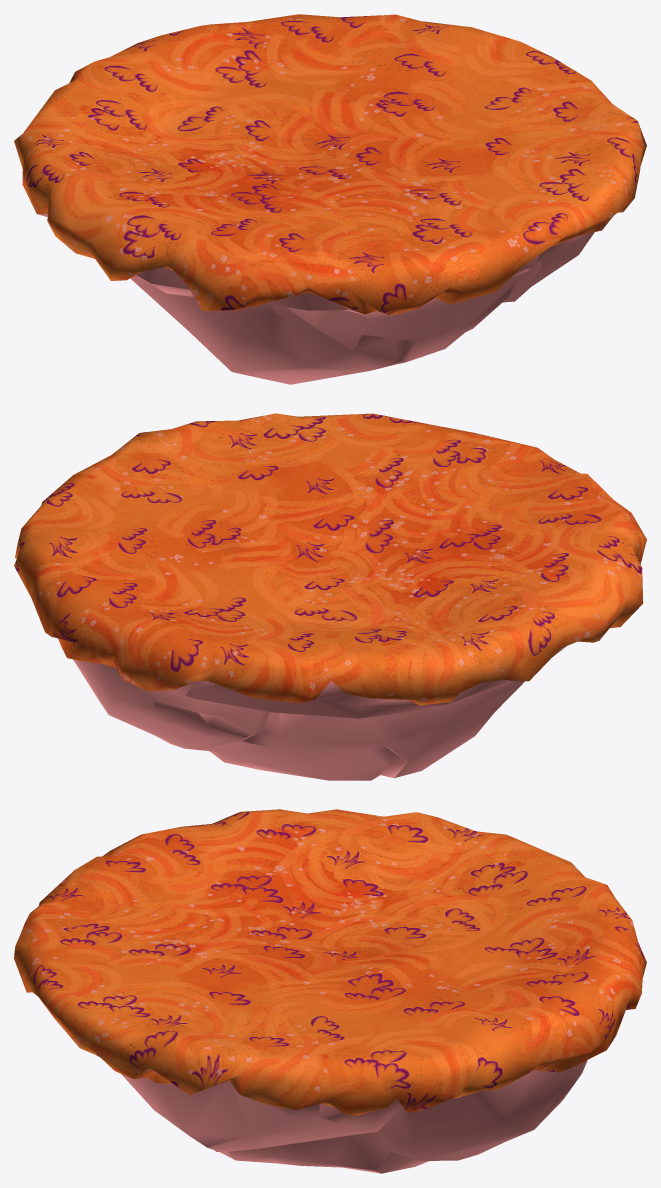
Rendered from entity439598.gltf.
3 renders of one model, top to bottom at view 1: azimuth 30°, elevation 25°; view 2: azimuth 150°, elevation 25°; view 3: azimuth 270°, elevation 25°, orthographic.
Visible parts, largest first — view 1: node_Floating_island_02; view 2: node_Floating_island_02; view 3: node_Floating_island_02.
Part boxes in pixels (x1,y1,x2,y2): node_Floating_island_02: (14,14,646,384); node_Floating_island_02: (14,413,646,780); node_Floating_island_02: (14,809,646,1173).
Bounding box in the file's own units: 2512 × 951 × 2488.
